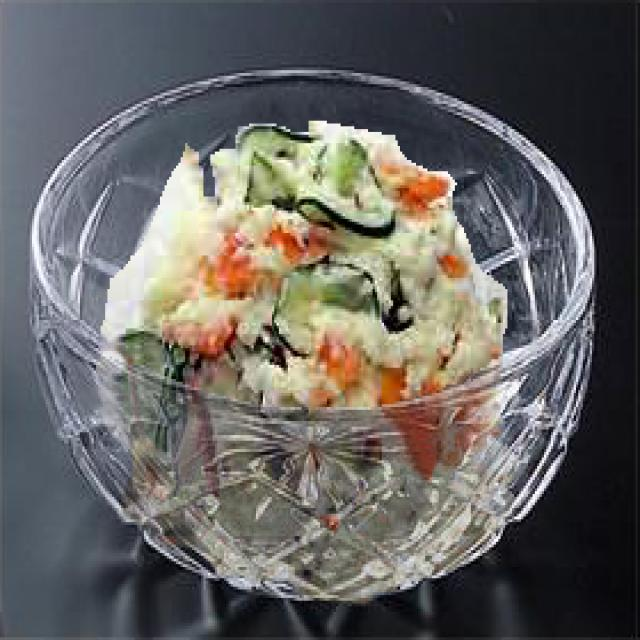蔬菜料理: (28, 51, 596, 609)
